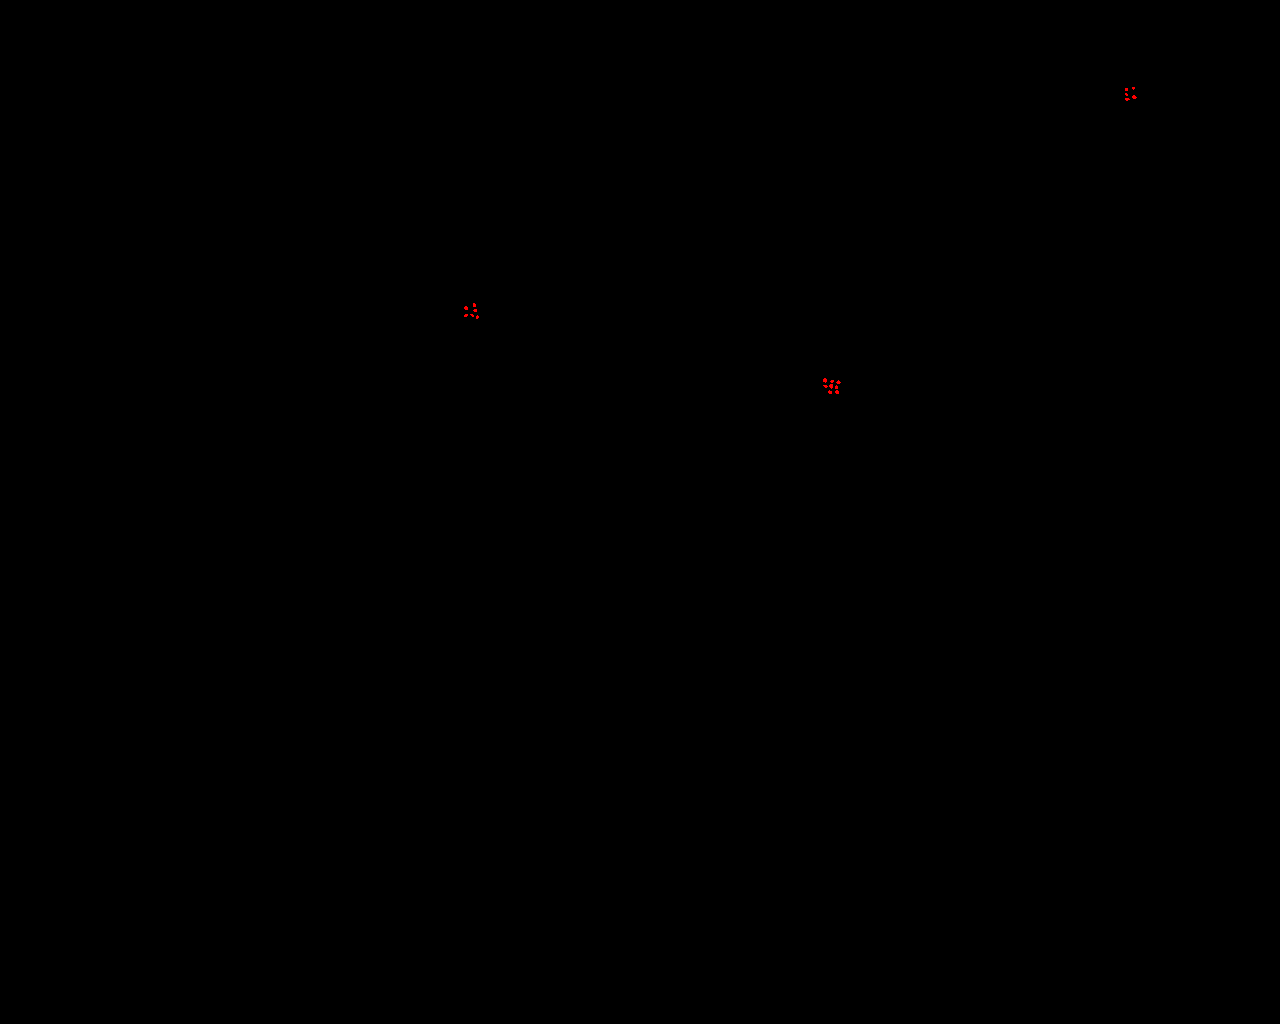Target: (1132, 95, 1137, 99), (836, 380, 841, 385), (464, 306, 468, 310), (829, 385, 833, 389), (828, 390, 832, 394), (835, 390, 839, 394), (823, 378, 827, 383), (1125, 98, 1130, 101), (473, 303, 476, 307), (473, 309, 478, 312), (830, 380, 834, 383), (823, 385, 828, 388), (835, 385, 838, 389), (1132, 87, 1135, 90), (1125, 88, 1128, 91), (1125, 93, 1128, 96), (464, 315, 468, 317), (470, 315, 474, 317), (476, 315, 479, 319)
